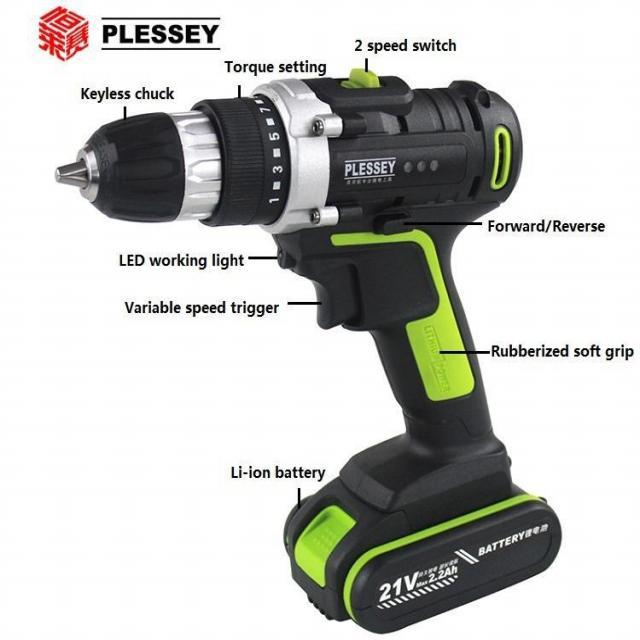drill: (56, 69, 561, 634)
